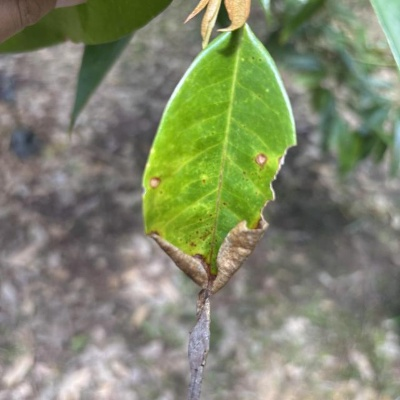Leaf_Blight: (139, 11, 299, 400)
